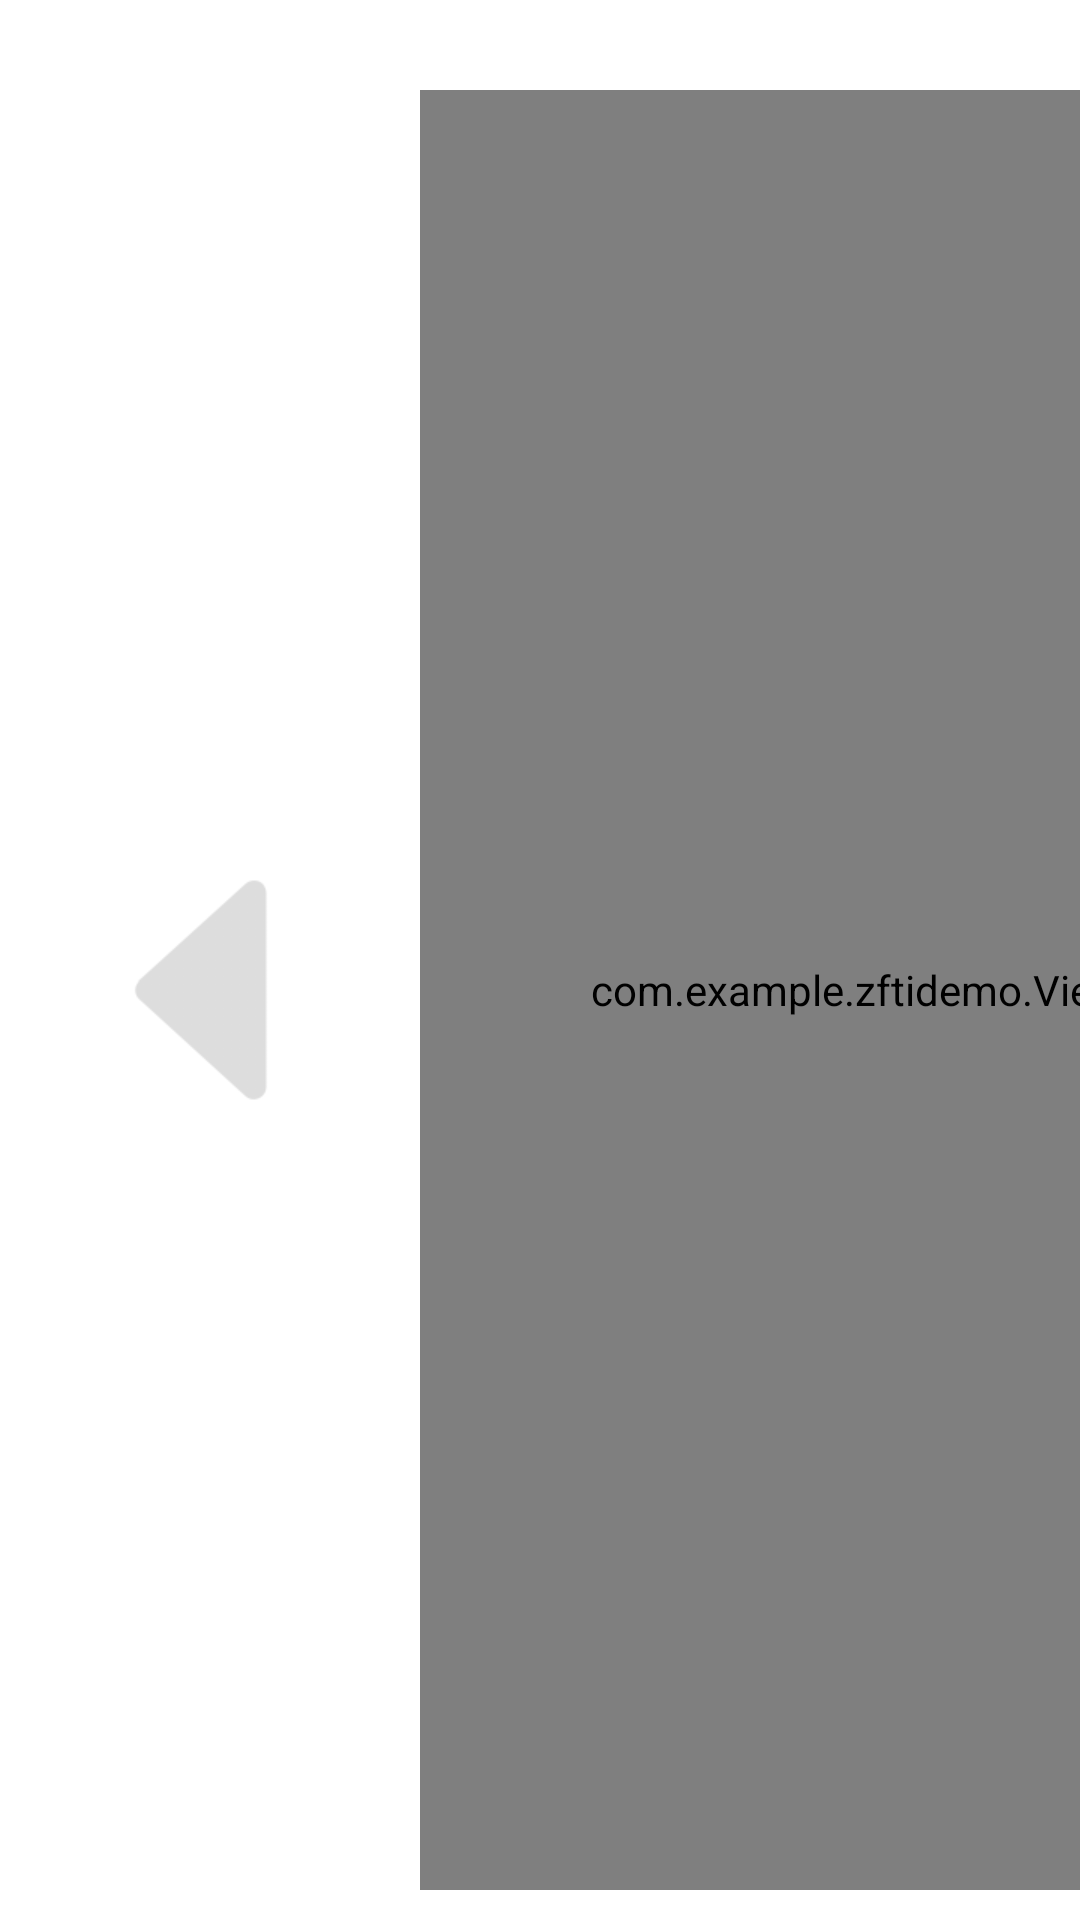

Screen size 1080px x 1920px. Icon name, then its box in pixels as (x1, y1, x2, y2):
arrow left filling: (136, 881, 266, 1099)
